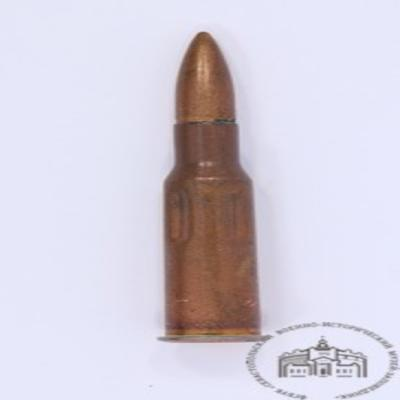weapon: (158, 31, 262, 343)
